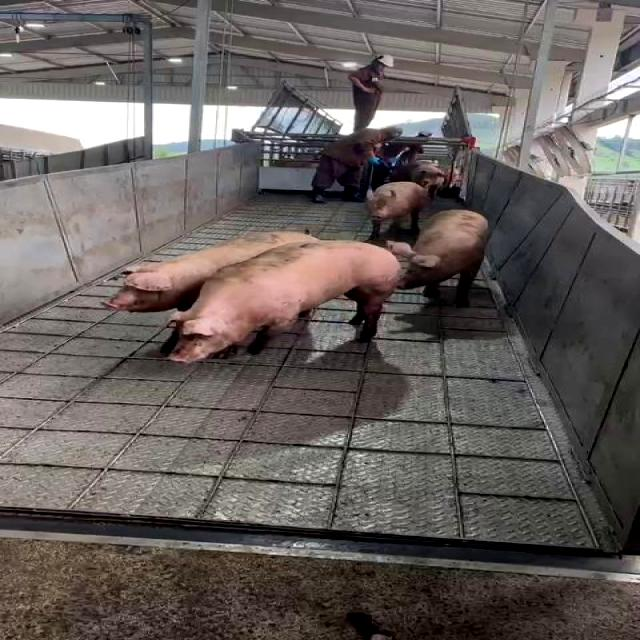pig: (170, 241, 399, 359), (105, 231, 319, 312), (404, 210, 488, 304), (367, 182, 427, 235)
